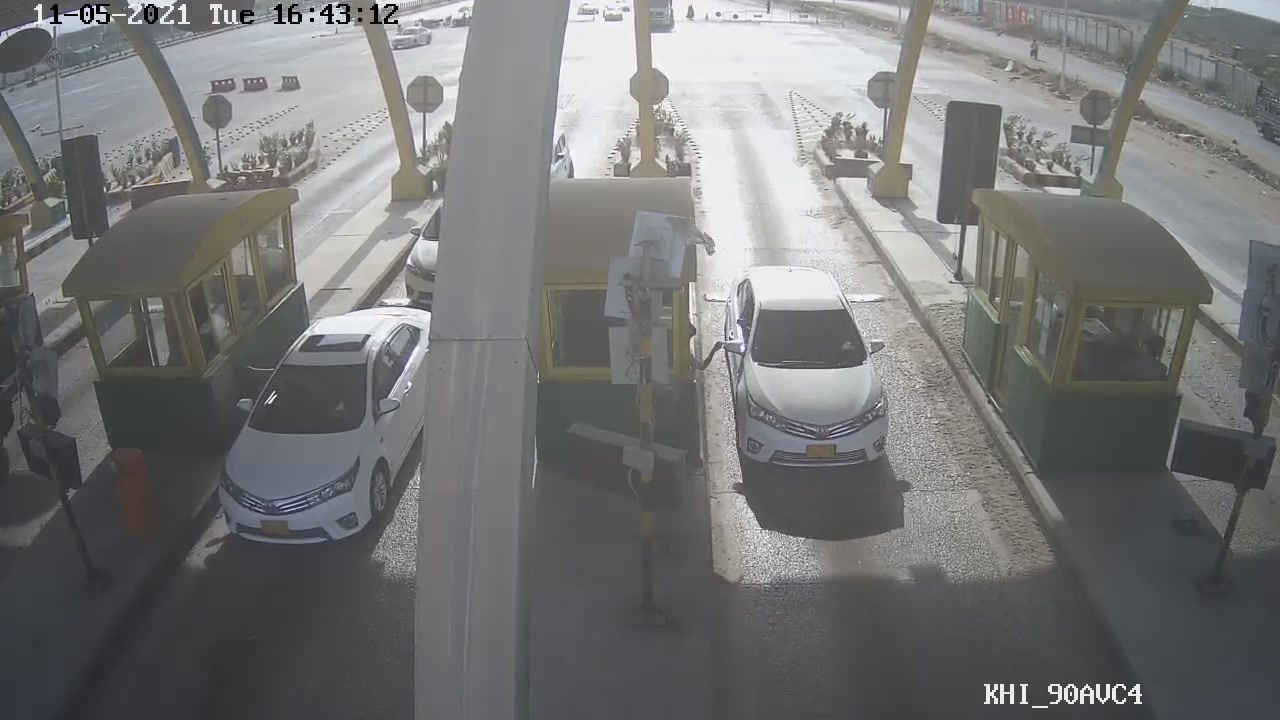F1: (716, 263, 903, 490)
